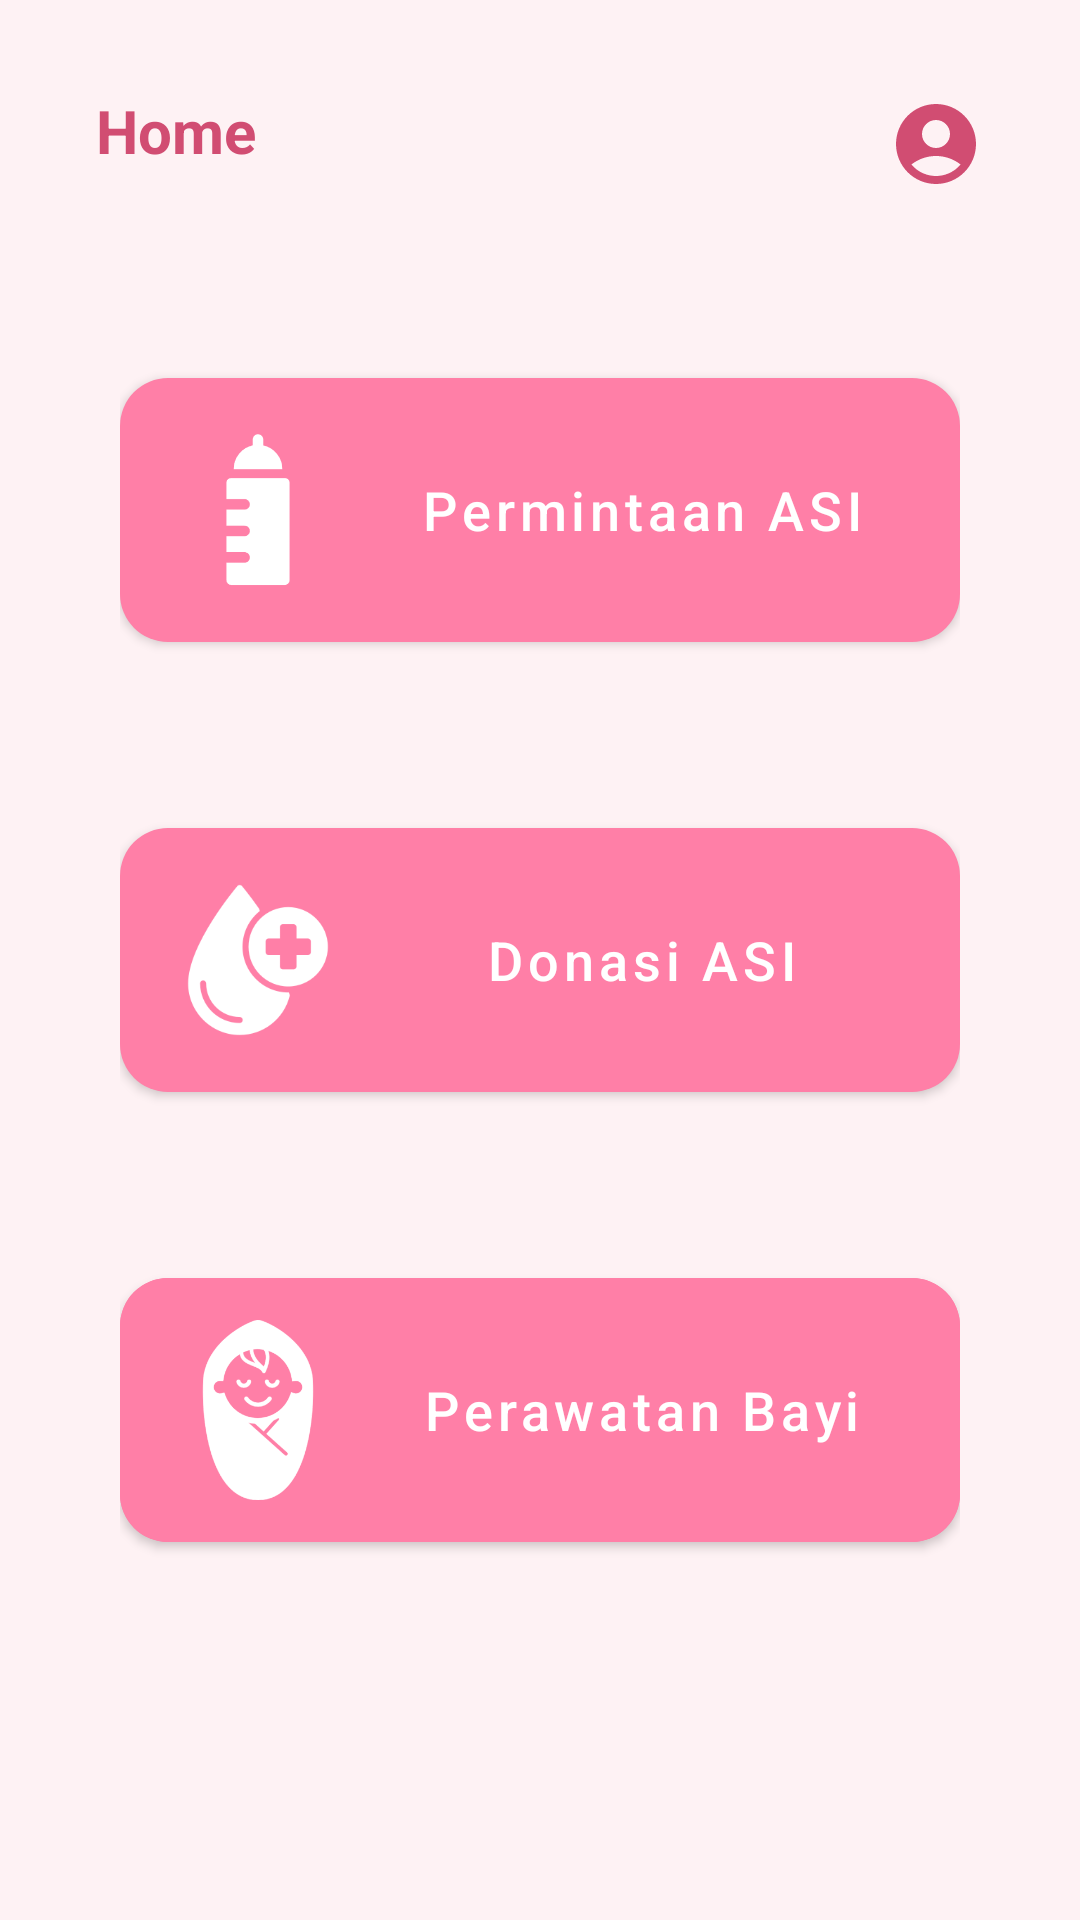

Screen size 1080 × 1920. Icon name, then its box in pixels as (x1, y1, x2, y2):
account: (896, 104, 976, 184)
